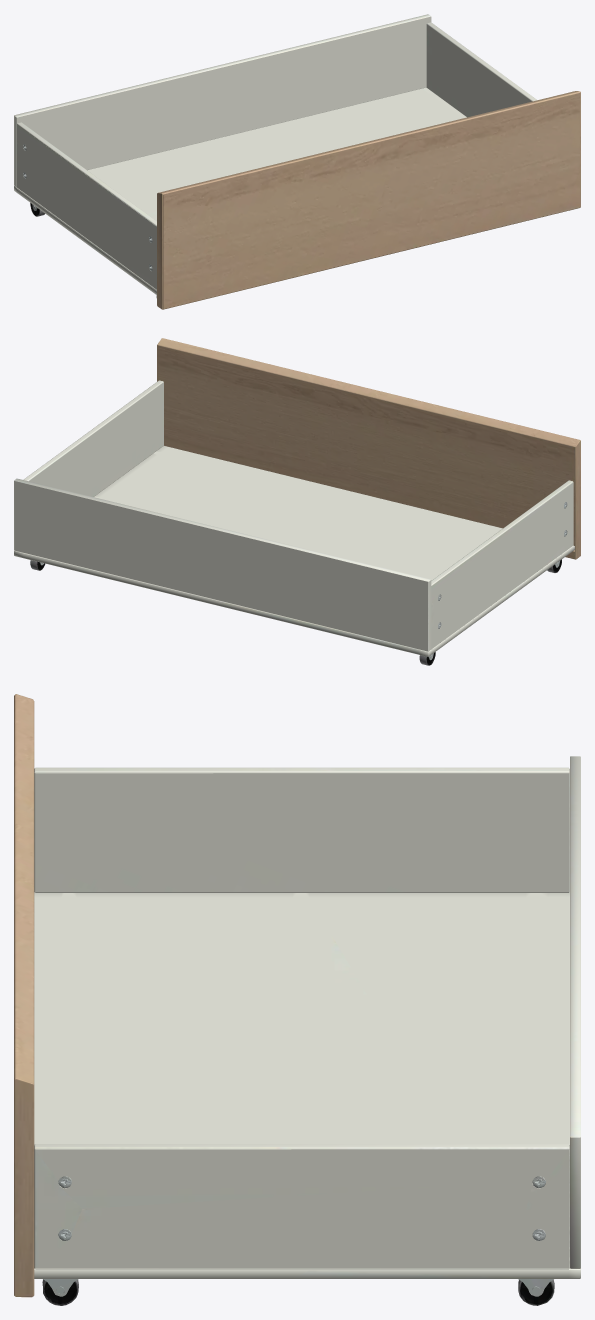
3 views of the same model, one above another, from view 1: azimuth 30°, elevation 25°; view 2: azimuth 150°, elevation 25°; view 3: azimuth 270°, elevation 25° (orthographic). The views are drawn at different scales.
Visible parts, largest first — view 1: 90264690-MALM001; view 2: 90264690-MALM001; view 3: 90264690-MALM001.
Part boxes in pixels (box(x1,y1,x2,y2)): 90264690-MALM001: box(14, 14, 580, 309); 90264690-MALM001: box(14, 338, 580, 665); 90264690-MALM001: box(14, 694, 580, 1305).
Size of the model in its own units: 0.999 by 0.2884 by 0.6222.
Materials: 1 (1 with a texture image).
